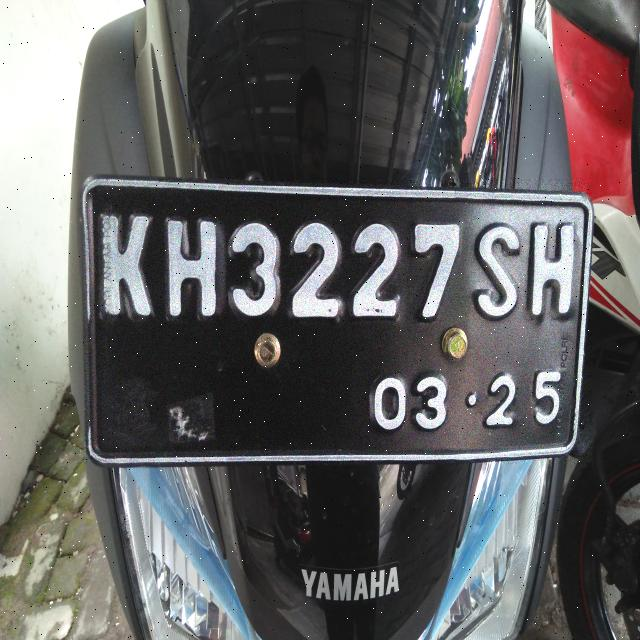plate: (84, 179, 591, 463)
